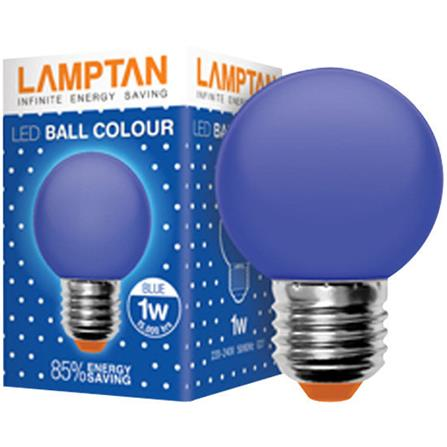Light_bulb: (212, 61, 447, 411)
